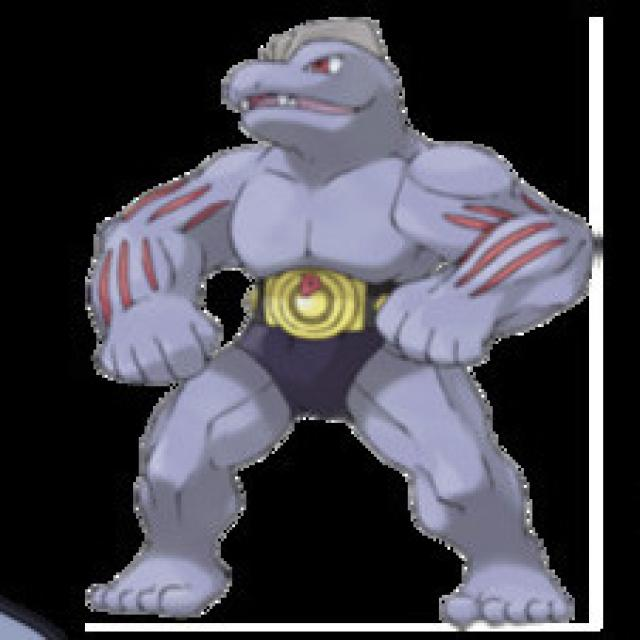Machoke: (96, 23, 581, 617)
